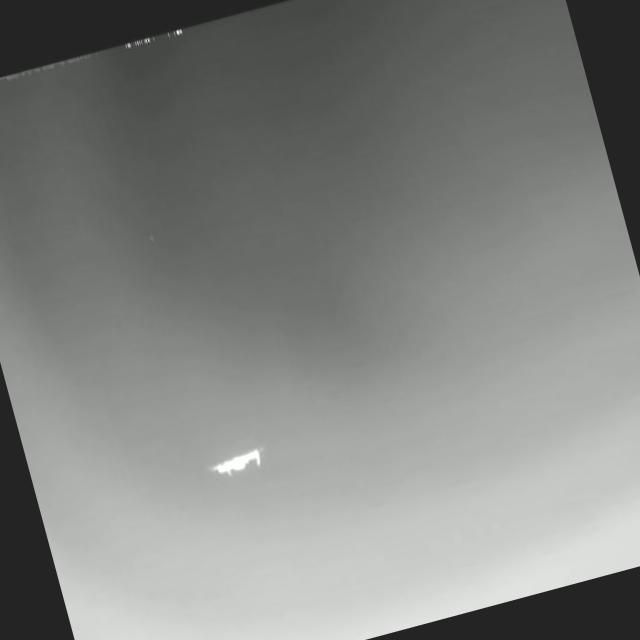DRONE: (202, 436, 275, 489)
